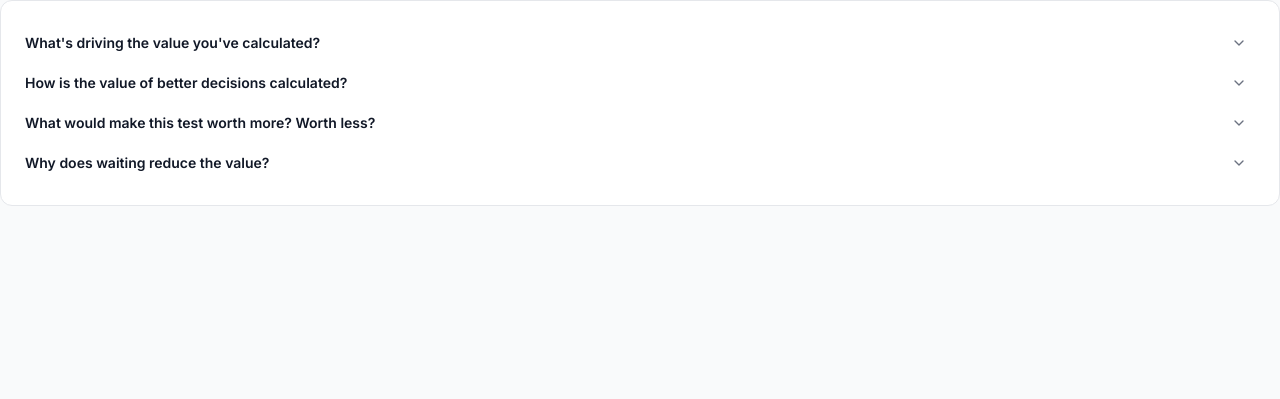
Scenario: FAQAccordion › Test 4: clicking an expanded accordion collapses it
Click the button "What's driving the value you've calculated?".
click(173, 42)  # box [21,25,1251,61]
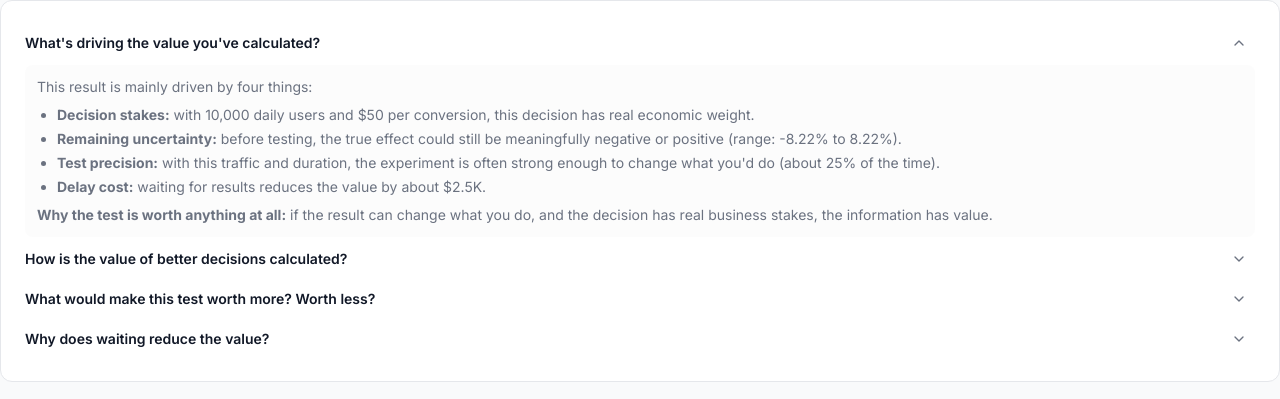
Expected: the button "What's driving the value you've calculated?" is expanded
Click the button "What's driving the value you've calculated?".
click(173, 42)  # box [21,25,1251,61]
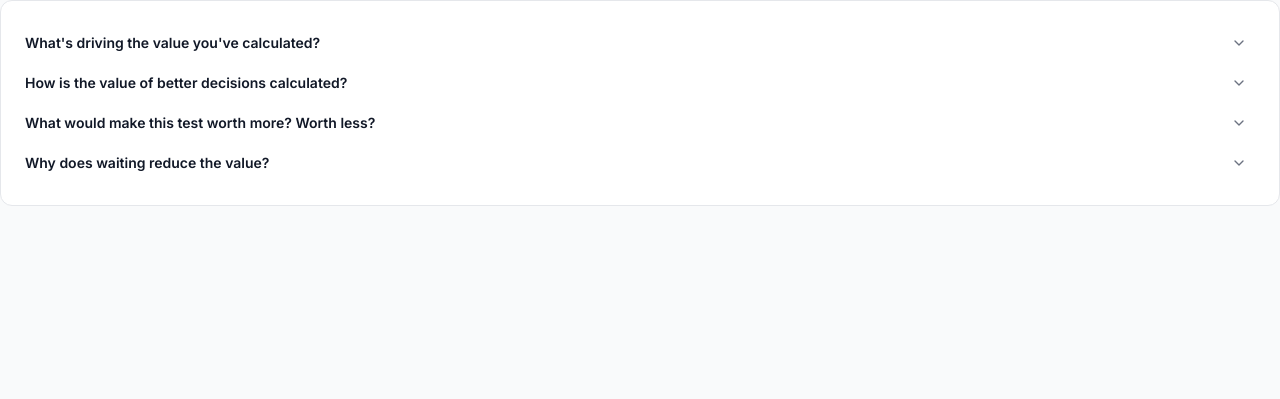
Expected: the button "What's driving the value you've calculated?" is collapsed, [21,25,1251,61]
Expected: the text "This result is mainly driven by four things" is gone
